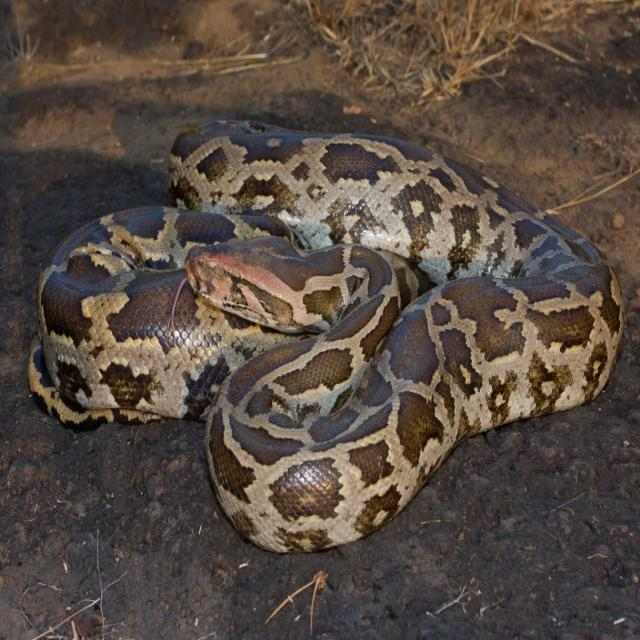Snake: (26, 116, 624, 555)
